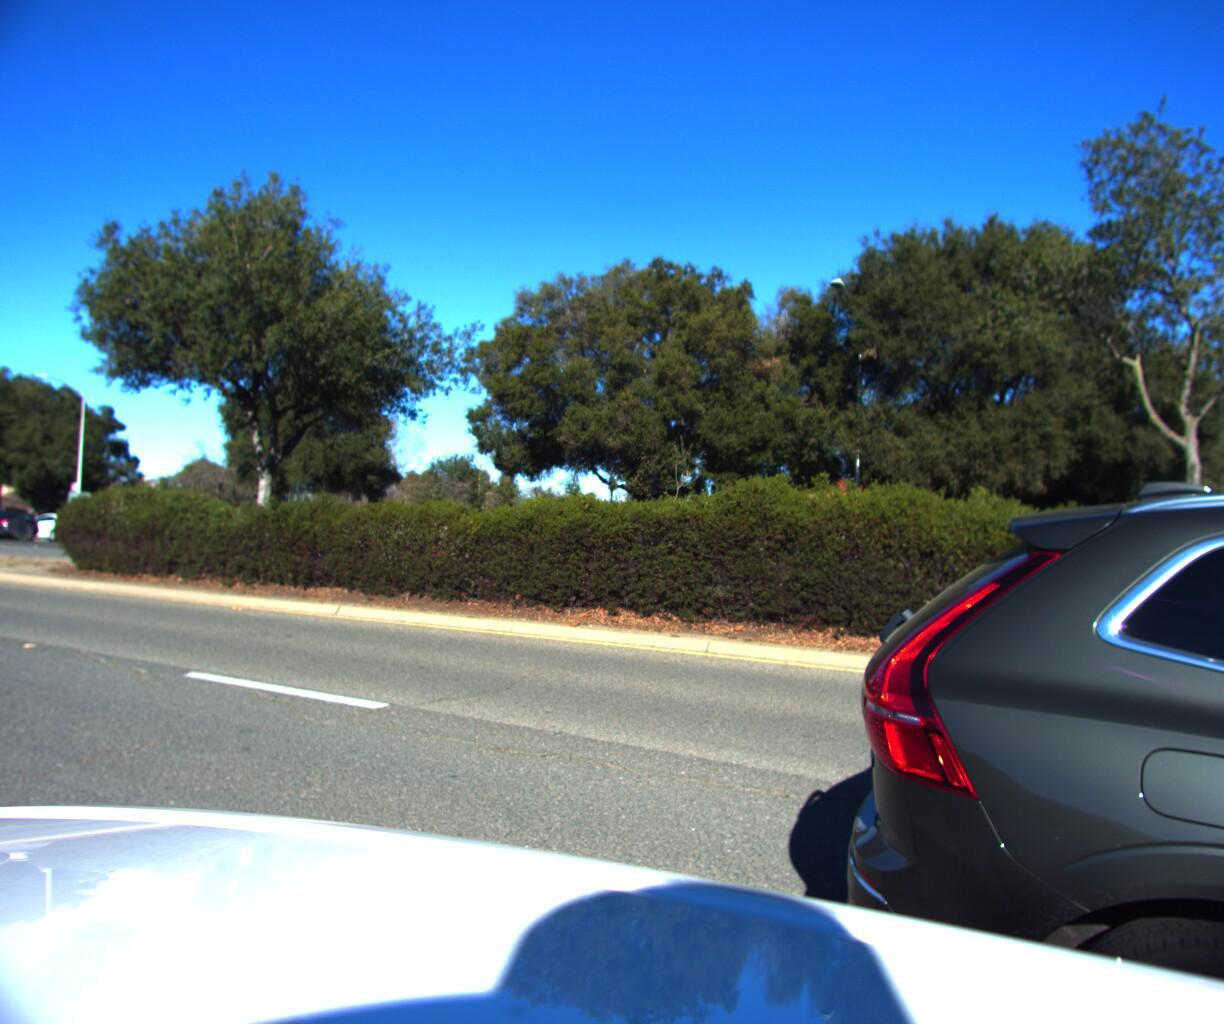car: (11, 516, 98, 548), (0, 513, 44, 546)
